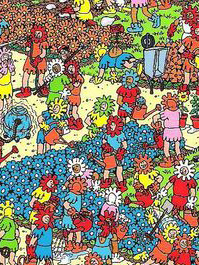waldo: (57, 45, 69, 60)
